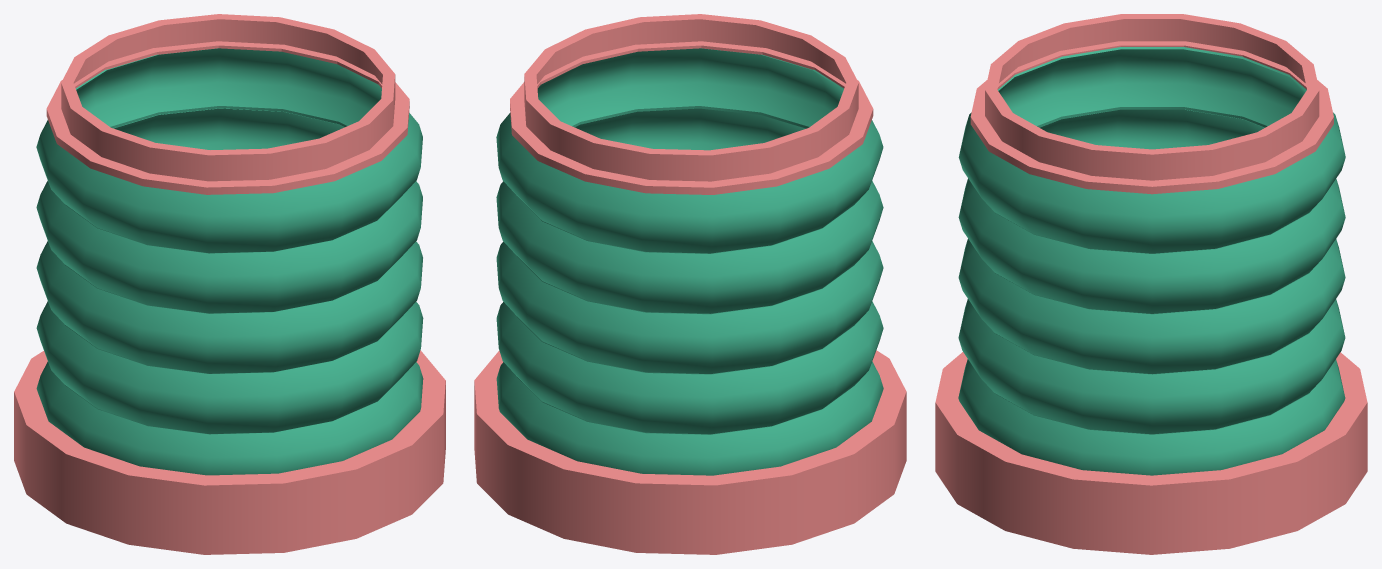
File: ShortTube.FBX
3 renders of one model, left to right at view 1: azimuth 30°, elevation 25°; view 2: azimuth 150°, elevation 25°; view 3: azimuth 270°, elevation 25°, orthographic.
Visible parts, largest first — view 1: ShortTube; view 2: ShortTube; view 3: ShortTube.
Boxes of the visible parts, <box> form: ShortTube: <box>14,14,445,554</box>; ShortTube: <box>474,14,906,554</box>; ShortTube: <box>935,14,1367,554</box>.
Bounding box in the file's own units: 56.2 × 54.6 × 56.45.
